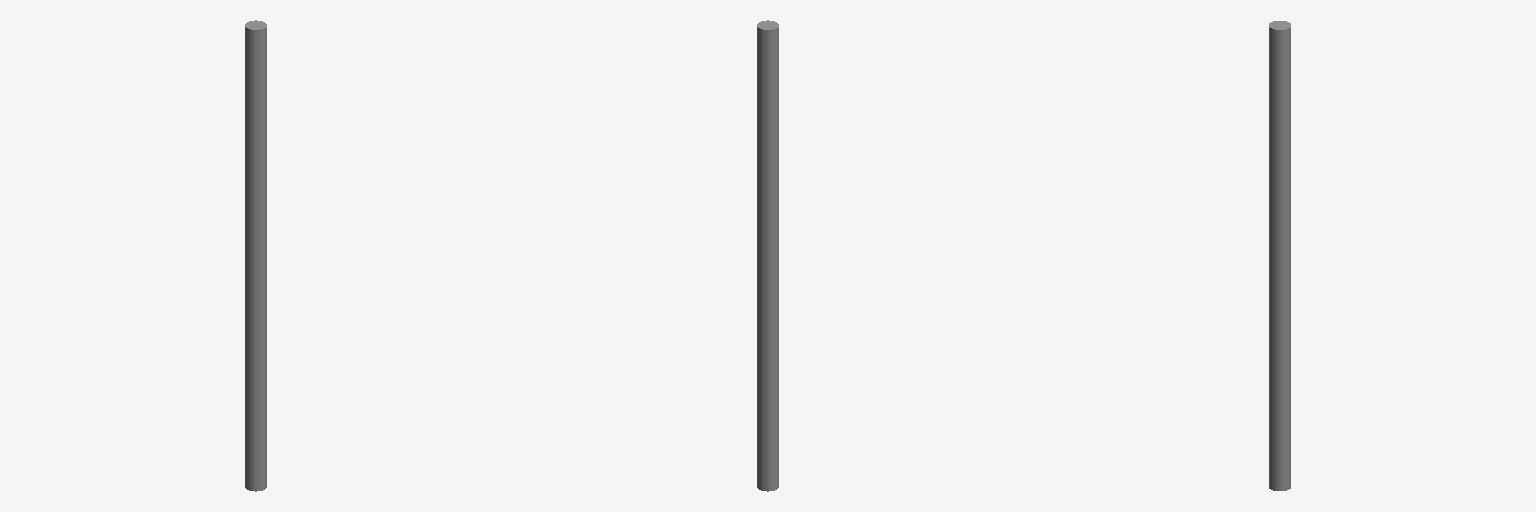
URDF robot description (FourBar):
<?xml version="1.0"?>
<robot xmlns="http://drake.mit.edu"
 xmlns:xsi="http://www.w3.org/2001/XMLSchema-instance"
 xsi:schemaLocation="http://drake.mit.edu ../../doc/drakeURDF.xsd" name="FourBar">
  <link name="base_link">
    <inertial>
        <mass value="1"/>
        <inertia ixx="1"  ixy="0"  ixz="0" iyy="1" iyz="0" izz="1" />
    </inertial>
    <visual>
      <geometry>
        <cylinder length="3.6" radius="0.2"/>
      </geometry>
      <material>
        <color rgba=".6353 .6353 .6353 1"/>
      </material>
    </visual>
  </link>

  <link name="link_1">
    <inertial>
        <origin xyz="0, 0, 0.9" rpy="0 0 0" />
        <mass value="1"/>
        <inertia ixx="1"  ixy="0"  ixz="0" iyy="1" iyz="0" izz="1" />
    </inertial>
    <visual>
      <origin xyz="0 0 .9" rpy="0 0 0"/>
      <geometry>
        <cylinder length="1.8" radius="0.2"/>
      </geometry>
      <material>
        <color rgba=".6353 .6353 .6353 1"/>
      </material>
    </visual>
  </link>

  <link name="link_2">
    <inertial>
        <origin xyz="0, 0, 0.9" rpy="0 0 0" /> 
        <mass value="1"/>
        <inertia ixx="1"  ixy="0"  ixz="0" iyy="1" iyz="0" izz="1" />
    </inertial>
    <visual>
      <origin xyz="0 0 0.9" rpy="0 0 0"/>
      <geometry>
        <cylinder length="1.8" radius="0.2"/>
      </geometry>
      <material>
        <color rgba=".6353 .6353 .6353 1"/>
      </material>
    </visual>
  </link>

  <link name="link_3">
    <inertial>
        <origin xyz="0, 0, 1.3" rpy="0 0 0" />
        <mass value="1"/>
        <inertia ixx="1"  ixy="0"  ixz="0" iyy="1" iyz="0" izz="1" />
    </inertial>
    <visual>
      <origin xyz="0 0 0.9" rpy="0 0 0"/>
      <geometry>
        <cylinder length="1.8" radius="0.2"/>
      </geometry>
      <material>
        <color rgba=".6353 .6353 .6353 1"/>
      </material>
    </visual>
    <!--<collision>
      <origin xyz="0 0 2.6"/>
      <geometry>
        <sphere radius="0" />
      </geometry>
    </collision> -->
  </link> 

  <joint name="joint_0" type="continuous">
    <axis xyz="0 1 0"/>
    <parent link="base_link"/>
    <child link="link_1"/>
    <origin rpy="0 0 0" xyz="0 0 1.8"/>
    <!--<dynamics damping="1"/>   -->
    <!--<limit lower="pi/4" upper="5*pi/4" />-->
  </joint>

  <joint name="joint_1" type="continuous">
    <axis xyz="0 1 0"/>
    <parent link="link_1"/>
    <child link="link_2"/>
    <origin rpy="0 0 0" xyz="0 0 1.8"/>
    <!--<dynamics damping="1.1"/> -->
    <!--<limit lower="-pi" upper="pi" />-->
  </joint>

  <joint name="joint_2" type="continuous">
    <axis xyz="0 1 0"/>
    <parent link="link_2"/>
    <child link="link_3"/>
    <origin rpy="0 0 0" xyz="0 0 1.8"/>
    <!--<dynamics damping="1.2"/> -->
    <!--<limit lower="pi/4" upper="5*pi/4" />-->
  </joint>

  <loop_joint name="joint_3" type="continuous">
    <axis xyz="0 1 0"/>
    <link1 link="link_3" rpy="0 0 0" xyz="0 0 1.8"/>
    <link2 link="base_link" rpy="0 0 0" xyz="0 0 0"/>
    <!---<dynamics stiffness="1" damping="10"/>-->
  </loop_joint>-->

 <!---<force_element name="k0">
  <torsional_spring stiffness="30" rest_angle="0">
    <joint name="joint_0" />
  </torsional_spring>
 </force_element>

 <force_element name="k1">
  <torsional_spring stiffness="10" rest_angle="0">
    <joint name="joint_1" />
   </torsional_spring>
 </force_element>

 <force_element name="k2">
  <torsional_spring stiffness="10" rest_angle="0">
    <joint name="joint_2" />
  </torsional_spring>
 </force_element>

  <transmission type="SimpleTransmission" name="joint_0_trans">
    <actuator name="control_torque" />
    <joint name="joint_0" />
    <mechanicalReduction>1</mechanicalReduction>
  </transmission>-->

</robot>

--- Render facts (derived) ---
The picture shows the robot from 3 angles, left to right: view 1: azimuth 30°, elevation 25°; view 2: azimuth 150°, elevation 25°; view 3: azimuth 270°, elevation 25°; orthographic projection.
Robot: FourBar — 4 links, 3 joints (3 continuous); root link base_link; default pose: every joint at zero.
Visible links, largest first — view 1: base_link, link_3, link_1, link_2; view 2: base_link, link_3, link_1, link_2; view 3: base_link, link_3, link_2, link_1.
Boxes of the visible links, <box> form: base_link: <box>245,304,266,491</box>; link_3: <box>245,20,266,121</box>; link_1: <box>245,212,266,306</box>; link_2: <box>245,119,266,214</box>; base_link: <box>757,304,778,491</box>; link_3: <box>757,20,778,121</box>; link_1: <box>757,212,778,306</box>; link_2: <box>757,119,778,214</box>; base_link: <box>1269,304,1290,490</box>; link_3: <box>1269,21,1290,121</box>; link_2: <box>1269,119,1290,214</box>; link_1: <box>1269,212,1290,306</box>.
Bounding box of the posed robot: 0.4 × 0.4 × 9 m (x, y, z).
Geometry: primitives only (box / cylinder / sphere), no mesh files.
